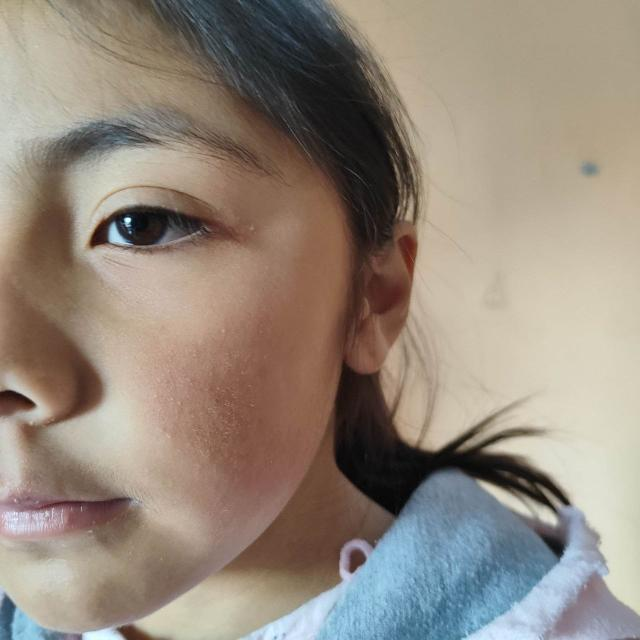ear: (345, 221, 418, 374)
